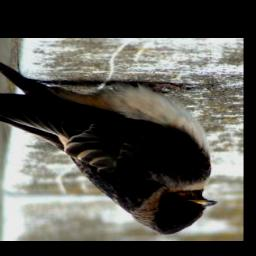Swallow: (0, 57, 219, 236)
